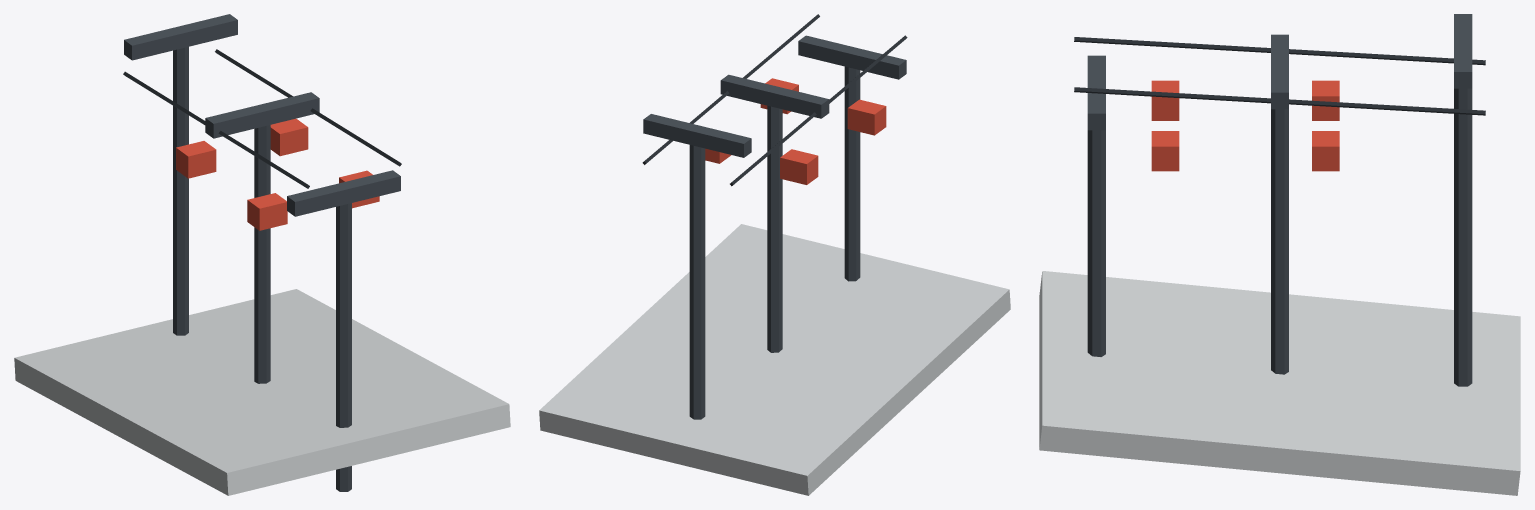
Rendered from ski_lift.glb.
The picture shows the model from 3 angles, left to right: view 1: azimuth 30°, elevation 25°; view 2: azimuth 150°, elevation 25°; view 3: azimuth 270°, elevation 25°; orthographic projection. The views are drawn at different scales.
Parts seen in each view (by area): view 1: CLSkiLift; view 2: CLSkiLift; view 3: CLSkiLift.
Part boxes in pixels (<box>): CLSkiLift: <box>14,14,510,495</box>; CLSkiLift: <box>539,14,1010,495</box>; CLSkiLift: <box>1039,14,1520,495</box>.
Bounding box in the file's own units: 0.8 × 0.92 × 1.05.
